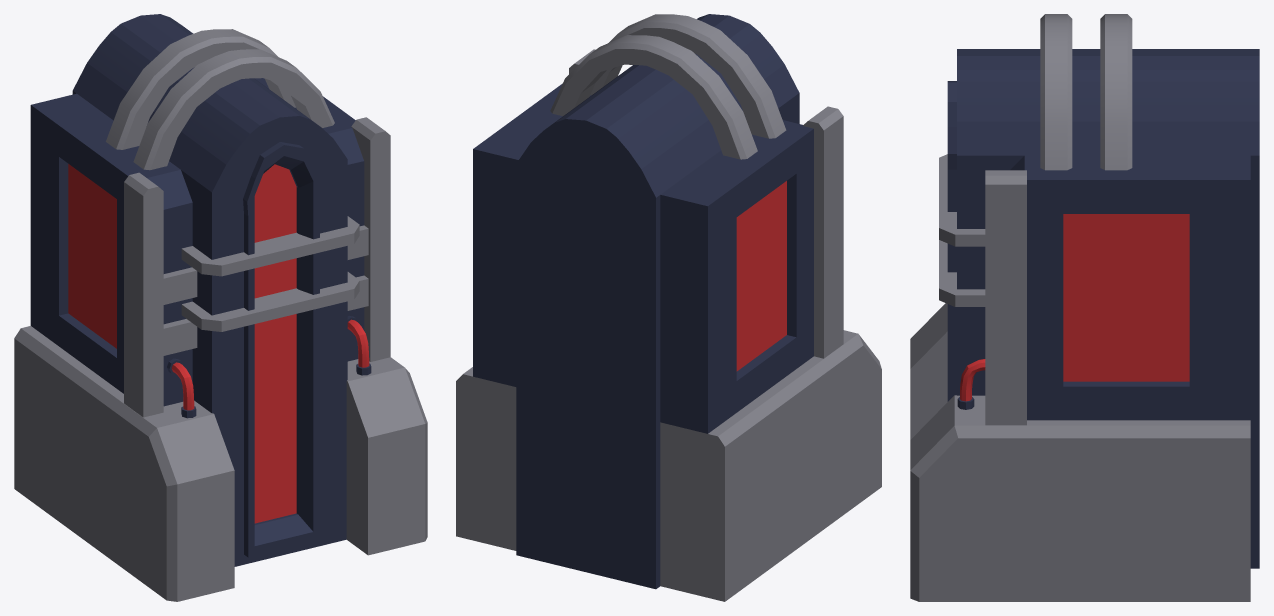
File: Generator.fbx
3 renders of one model, left to right at view 1: azimuth 30°, elevation 25°; view 2: azimuth 150°, elevation 25°; view 3: azimuth 270°, elevation 25°, orthographic. The views are drawn at different scales.
Parts seen in each view (by area): view 1: Generator; view 2: Generator; view 3: Generator.
Boxes of the visible parts, x1,y1,x2,y2 form: Generator: (14, 14, 427, 601); Generator: (456, 14, 881, 601); Generator: (910, 14, 1259, 601).
Size of the model in its own units: 795 by 1362 by 849.
